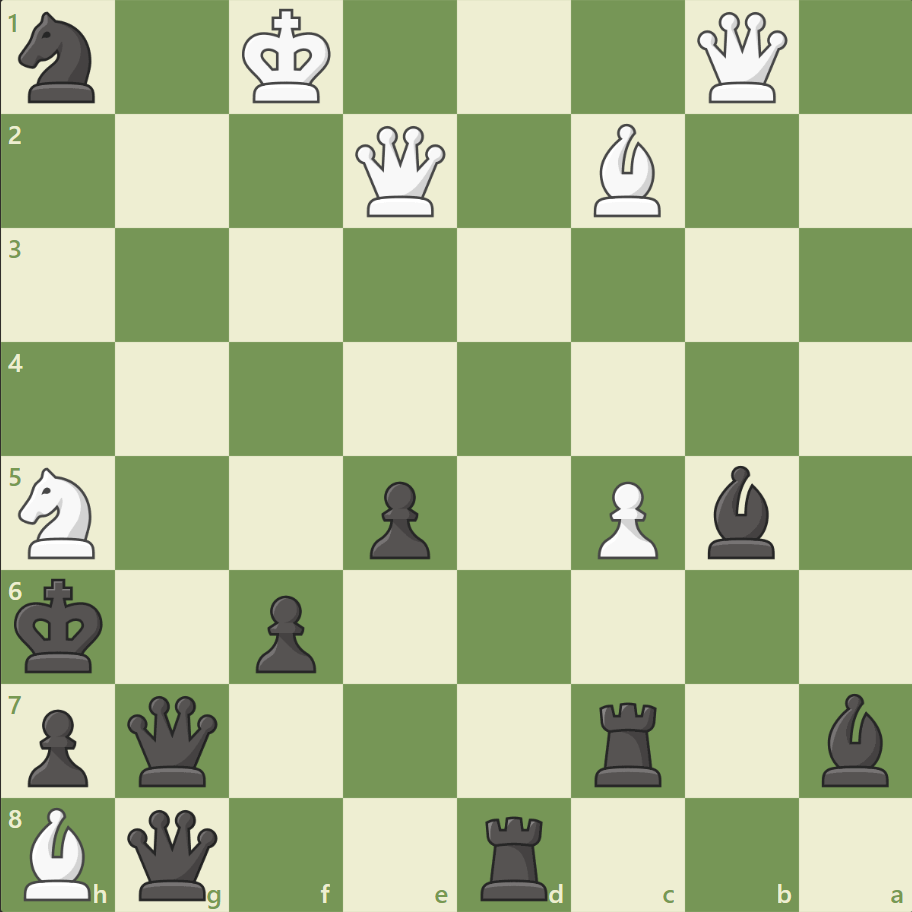B: (17, 801, 101, 904), (585, 120, 669, 222)
K: (238, 4, 338, 112)
N: (11, 461, 108, 564)
P: (588, 473, 662, 564)
Q: (351, 122, 450, 222), (691, 9, 790, 108)
b: (812, 687, 896, 790), (698, 460, 782, 563)
k: (11, 571, 111, 679)
n: (11, 7, 108, 110)
p: (20, 700, 95, 791), (247, 586, 322, 677), (361, 473, 435, 564)
q: (124, 804, 223, 903), (124, 690, 223, 789)
r: (473, 806, 556, 904), (587, 693, 670, 790)
